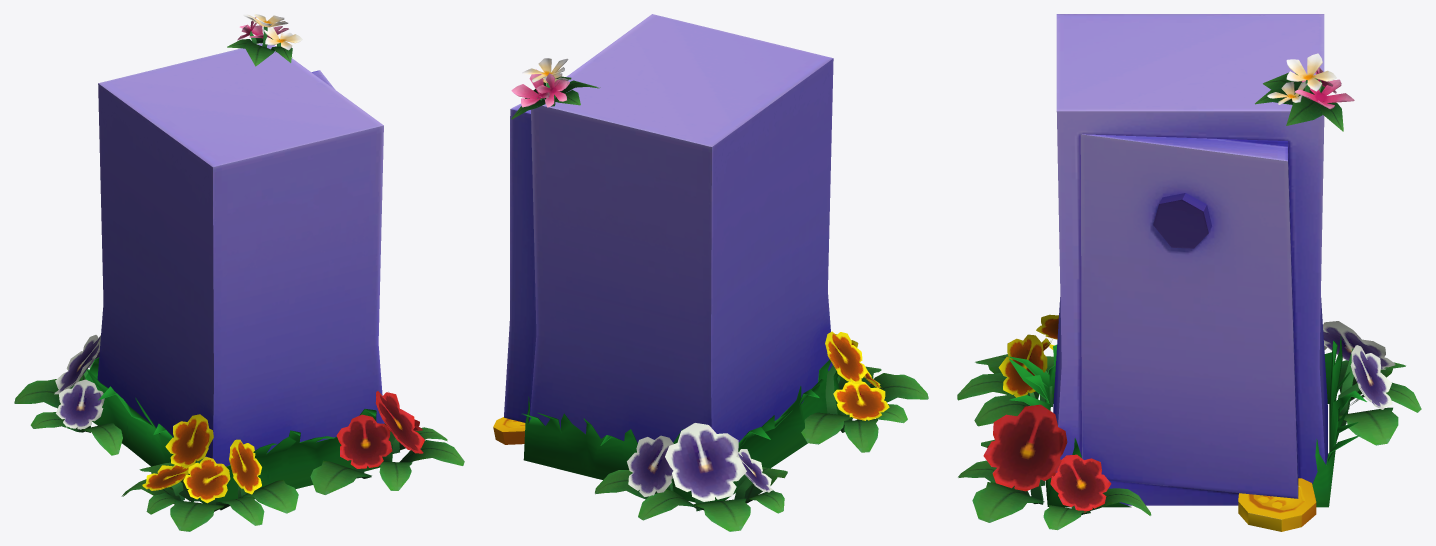
The model's file is Vault Flower.obj.
3 renders of one model, left to right at view 1: azimuth 30°, elevation 25°; view 2: azimuth 150°, elevation 25°; view 3: azimuth 270°, elevation 25°, orthographic. The views are drawn at different scales.
Visible parts, largest first — view 1: VaultFlower1; view 2: VaultFlower1; view 3: VaultFlower1.
Part boxes in pixels (bbox=[...]): VaultFlower1: bbox=[14, 14, 464, 531]; VaultFlower1: bbox=[493, 14, 928, 531]; VaultFlower1: bbox=[957, 14, 1421, 531].
Size of the model in its own units: 10.63 by 12.62 by 12.22.
Materials: 1 (1 with a texture image).
